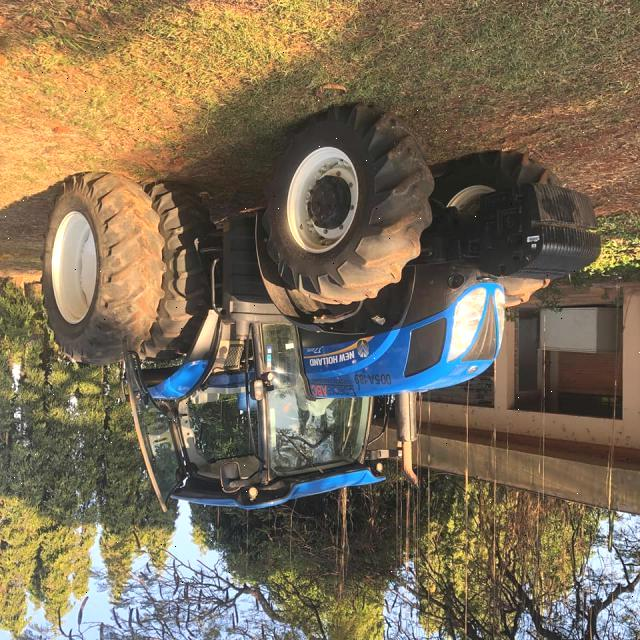Tratores - v5 YOLO V8L 2024-11-13: (33, 104, 600, 518)
